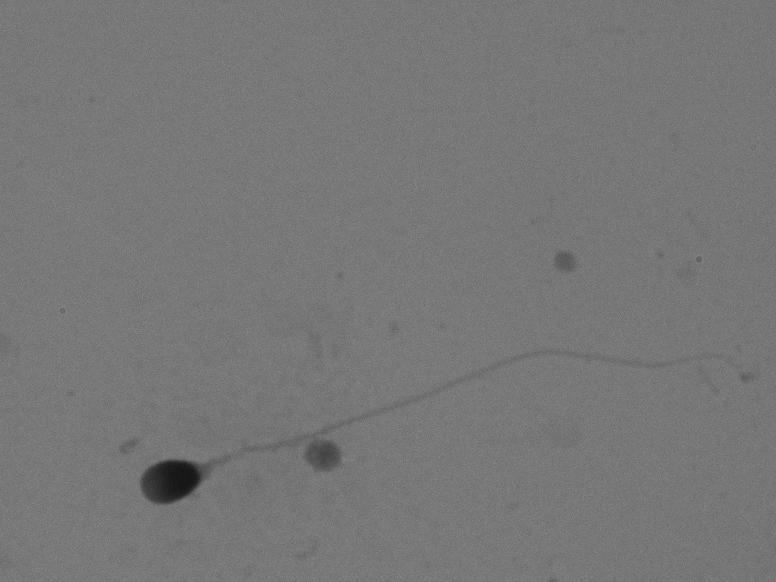Normal: (114, 314, 745, 514)
